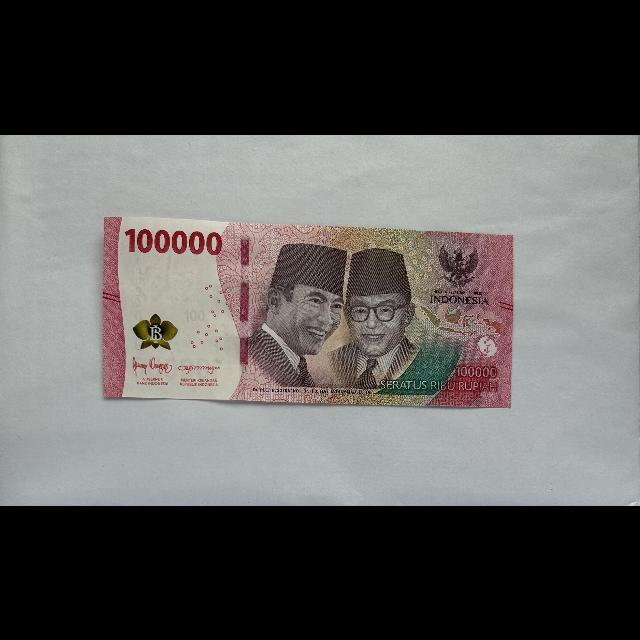Asli-100k: (101, 215, 515, 410)
Tinta-Asli-100k: (132, 312, 179, 350)
